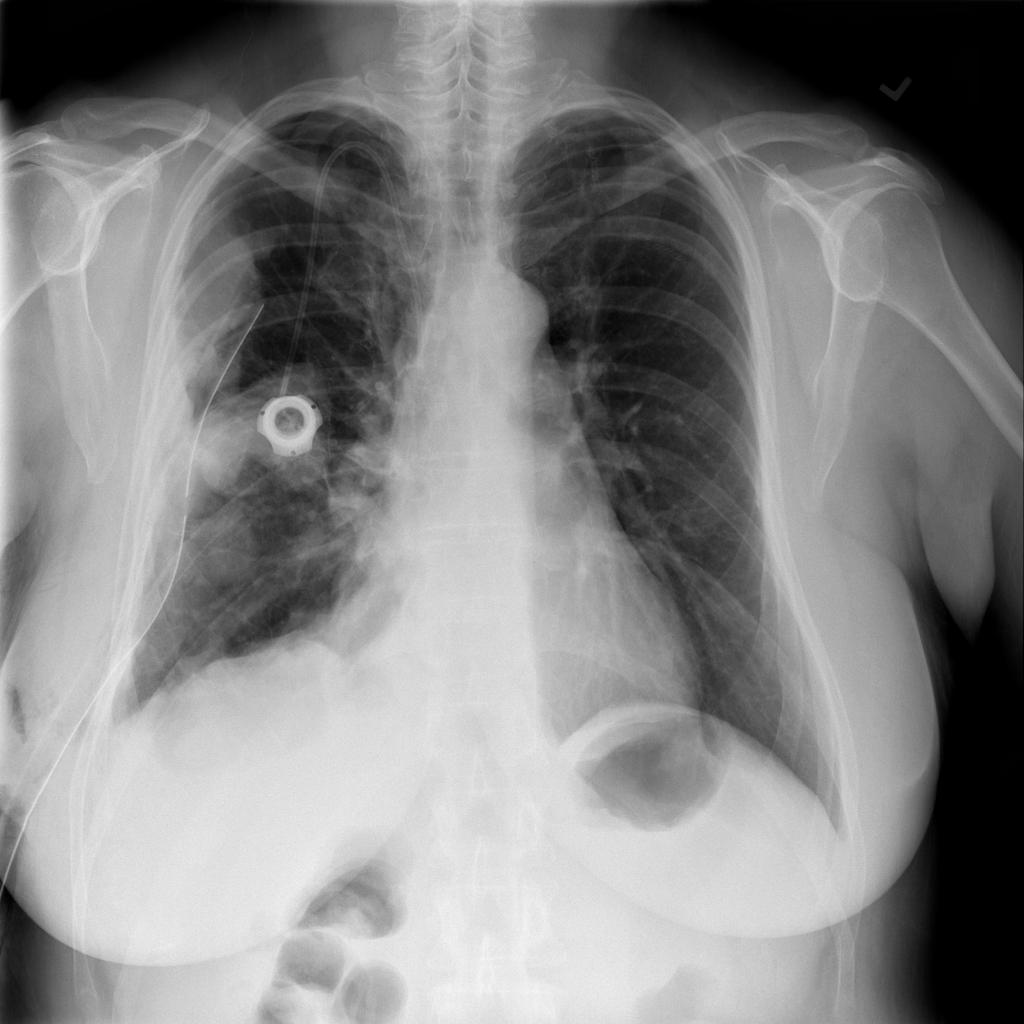nodule: (164, 207, 278, 348), (169, 377, 281, 503), (172, 493, 271, 595)
